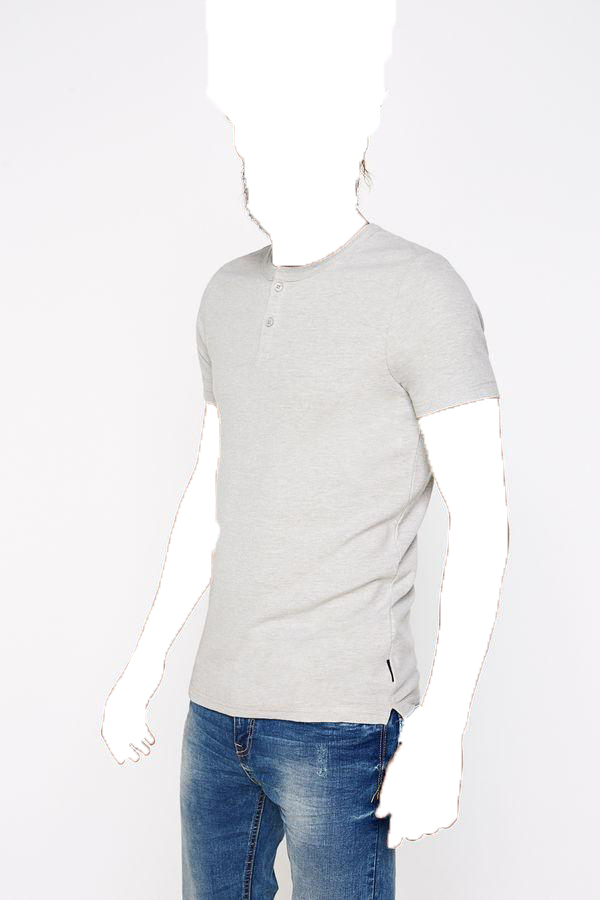teeshirt: (170, 225, 509, 741)
